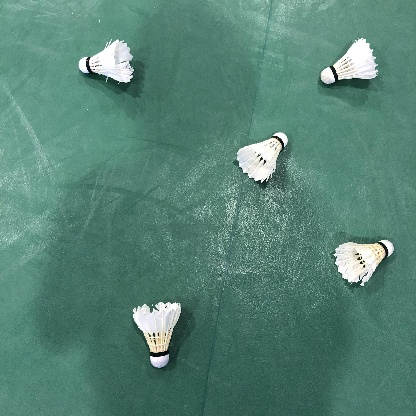ball_single: (133, 301, 181, 368), (333, 240, 394, 286), (321, 38, 379, 84), (237, 132, 288, 183), (79, 39, 134, 83)
